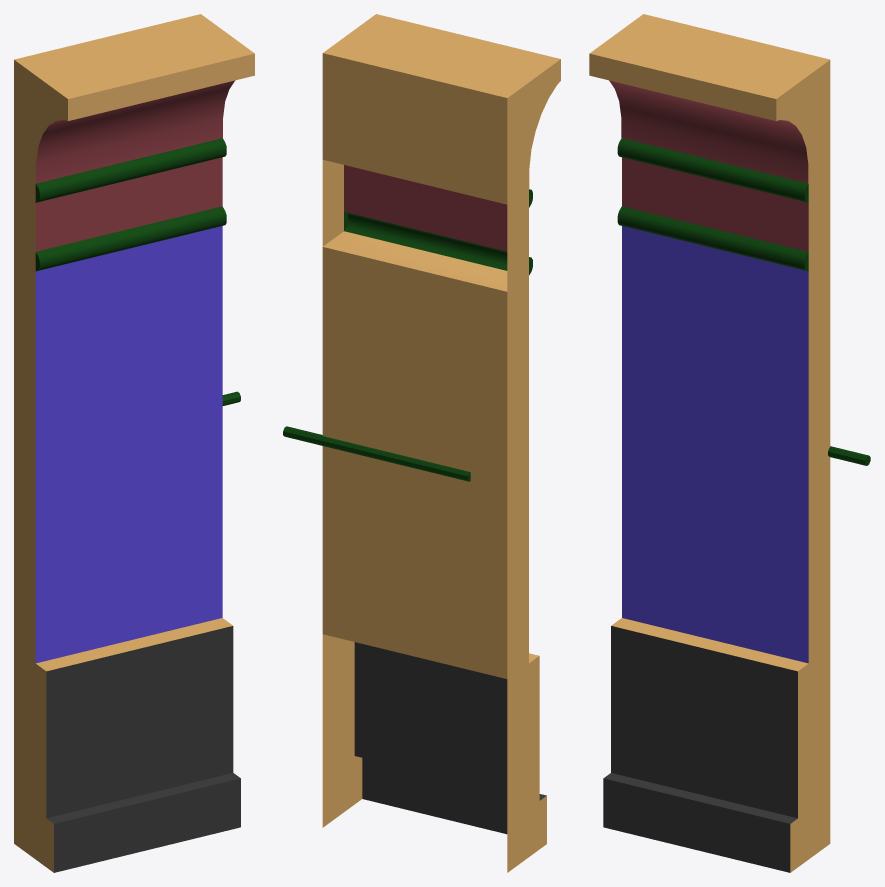
The model's file is Desert_WallModule.fbx.
3 renders of one model, left to right at view 1: azimuth 30°, elevation 25°; view 2: azimuth 150°, elevation 25°; view 3: azimuth 330°, elevation 25°, orthographic.
Visible parts, largest first — view 1: Desert_Soubassement_low.002, Desert_Relief_low.004, Desert_Relief_low.003, Desert_Corniche_low.002, Desert_Doppeltrim_low.002; view 2: Desert_Relief_low.004, Desert_Relief_low.003, Desert_Soubassement_low.002, Desert_Corniche_low.002, Desert_Doppeltrim_low.002, Desert_Rundstab_low.002; view 3: Desert_Soubassement_low.002, Desert_Relief_low.004, Desert_Relief_low.003, Desert_Corniche_low.002, Desert_Doppeltrim_low.002.
Boxes of the visible parts, left/top/right/bottom form: Desert_Soubassement_low.002: left=14, top=618, right=240, bottom=872; Desert_Relief_low.004: left=14, top=226, right=222, bottom=467; Desert_Relief_low.003: left=14, top=422, right=222, bottom=663; Desert_Corniche_low.002: left=14, top=14, right=254, bottom=183; Desert_Doppeltrim_low.002: left=14, top=138, right=226, bottom=271; Desert_Relief_low.004: left=322, top=231, right=528, bottom=485; Desert_Relief_low.003: left=322, top=446, right=528, bottom=679; Desert_Soubassement_low.002: left=322, top=634, right=546, bottom=872; Desert_Corniche_low.002: left=322, top=14, right=560, bottom=204; Desert_Doppeltrim_low.002: left=322, top=160, right=532, bottom=291; Desert_Rundstab_low.002: left=283, top=426, right=470, bottom=481; Desert_Soubassement_low.002: left=603, top=618, right=830, bottom=872; Desert_Relief_low.004: left=622, top=226, right=830, bottom=467; Desert_Relief_low.003: left=622, top=422, right=830, bottom=663; Desert_Corniche_low.002: left=589, top=14, right=830, bottom=183; Desert_Doppeltrim_low.002: left=617, top=138, right=830, bottom=271.
Size of the model in its own units: 2.4 by 8 by 1.05.
